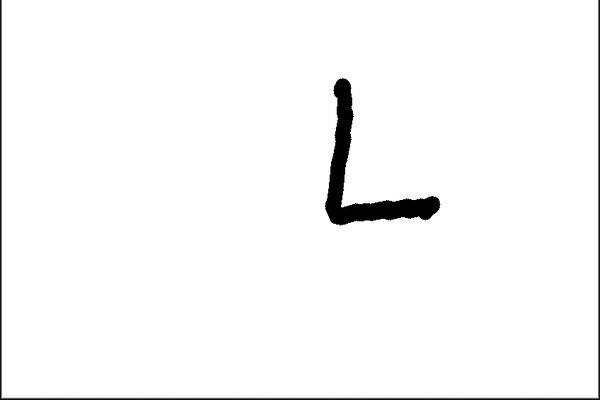L: (316, 69, 442, 229)
